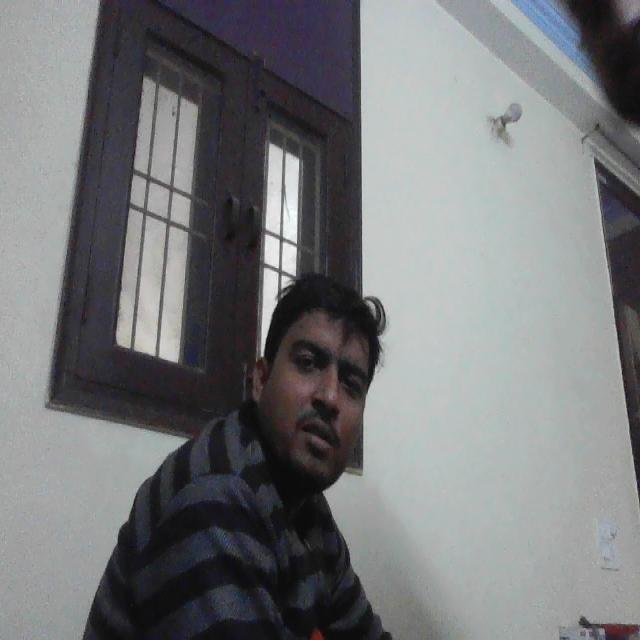real: (253, 259, 370, 480)
